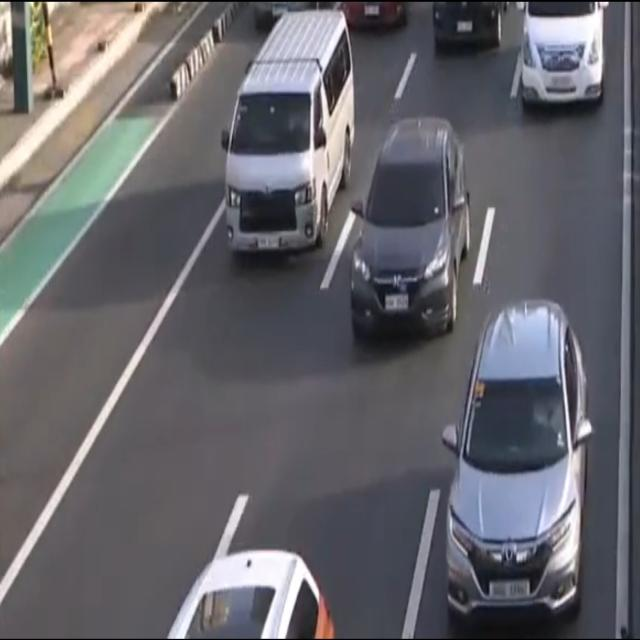Sedan: (439, 298, 591, 616), (352, 110, 472, 336), (185, 543, 340, 640)
Van: (223, 13, 354, 266), (522, 0, 608, 111)
